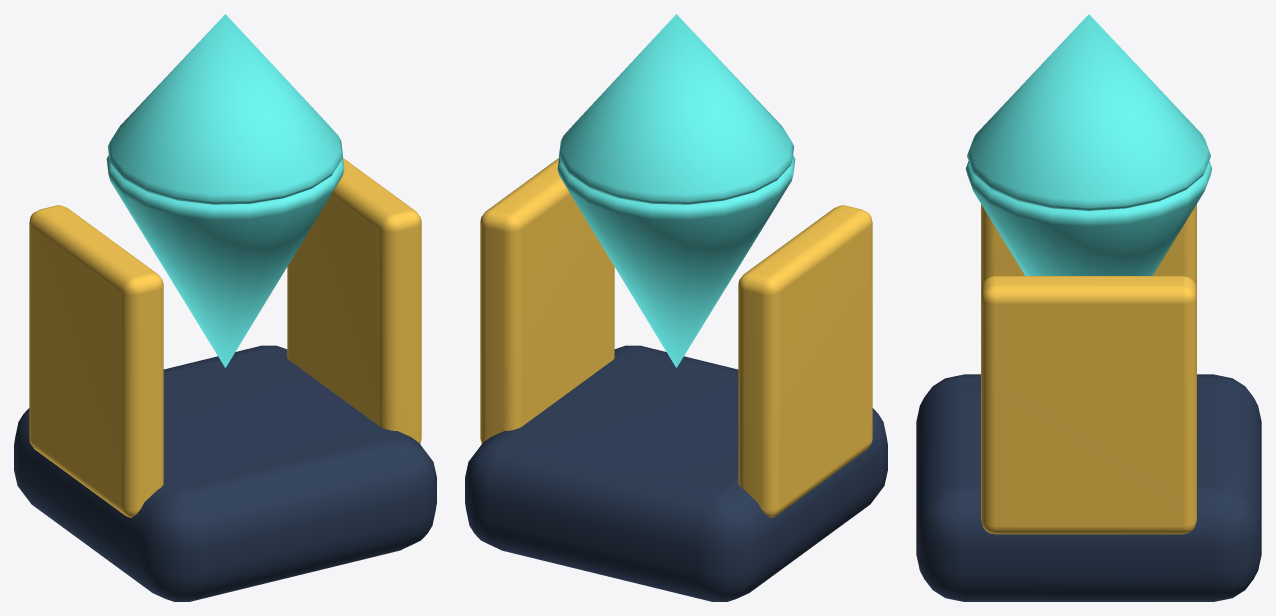
File: relay.runtime.gltf
The picture shows the model from 3 angles, left to right: view 1: azimuth 30°, elevation 25°; view 2: azimuth 150°, elevation 25°; view 3: azimuth 270°, elevation 25°; orthographic projection. The views are drawn at different scales.
Visible parts, largest first — view 1: Relay plinth; view 2: Relay plinth; view 3: Relay plinth.
Part boxes in pixels (x1,y1,x2,y2): Relay plinth: (14,14,436,601); Relay plinth: (465,14,887,601); Relay plinth: (916,14,1261,601).
Bounding box in the file's own units: 0.74 × 1.22 × 0.72.
